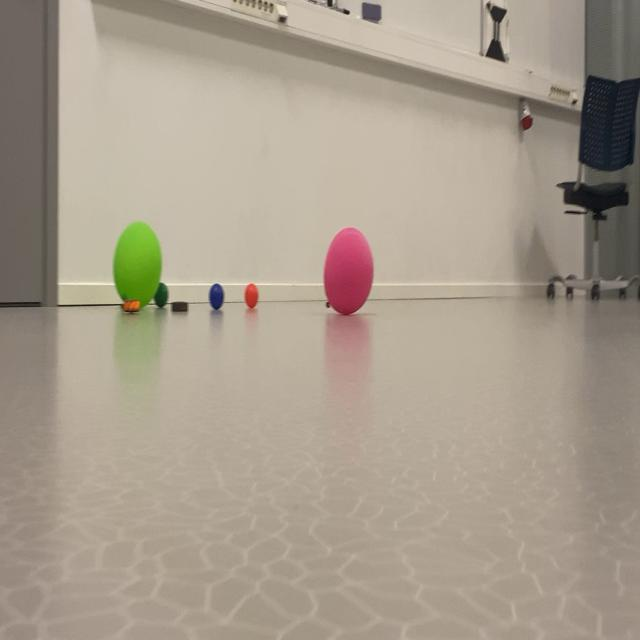7: (236, 262, 262, 330)
blue ball: (200, 276, 264, 329)
green ball: (203, 256, 230, 331)
red ball: (152, 272, 170, 323)
